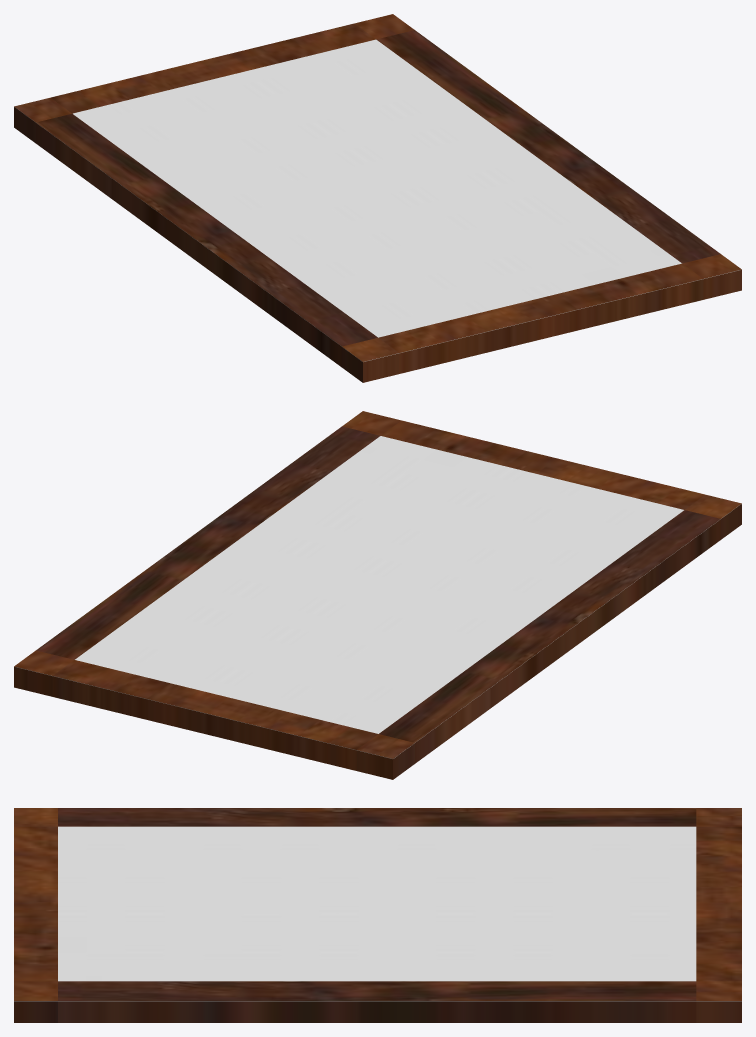
Rendered from quadro.obj.
The picture shows the model from 3 angles, top to bottom: view 1: azimuth 30°, elevation 25°; view 2: azimuth 150°, elevation 25°; view 3: azimuth 270°, elevation 25°; orthographic projection. The views are drawn at different scales.
Visible parts, largest first — view 1: Cube_Cube.003; view 2: Cube_Cube.003; view 3: Cube_Cube.003.
Part boxes in pixels (x1,y1,x2,y2): Cube_Cube.003: (14, 14, 741, 382); Cube_Cube.003: (14, 411, 741, 779); Cube_Cube.003: (14, 808, 741, 1022).
Size of the model in its own units: 2.29 by 0.1212 by 3.65.
